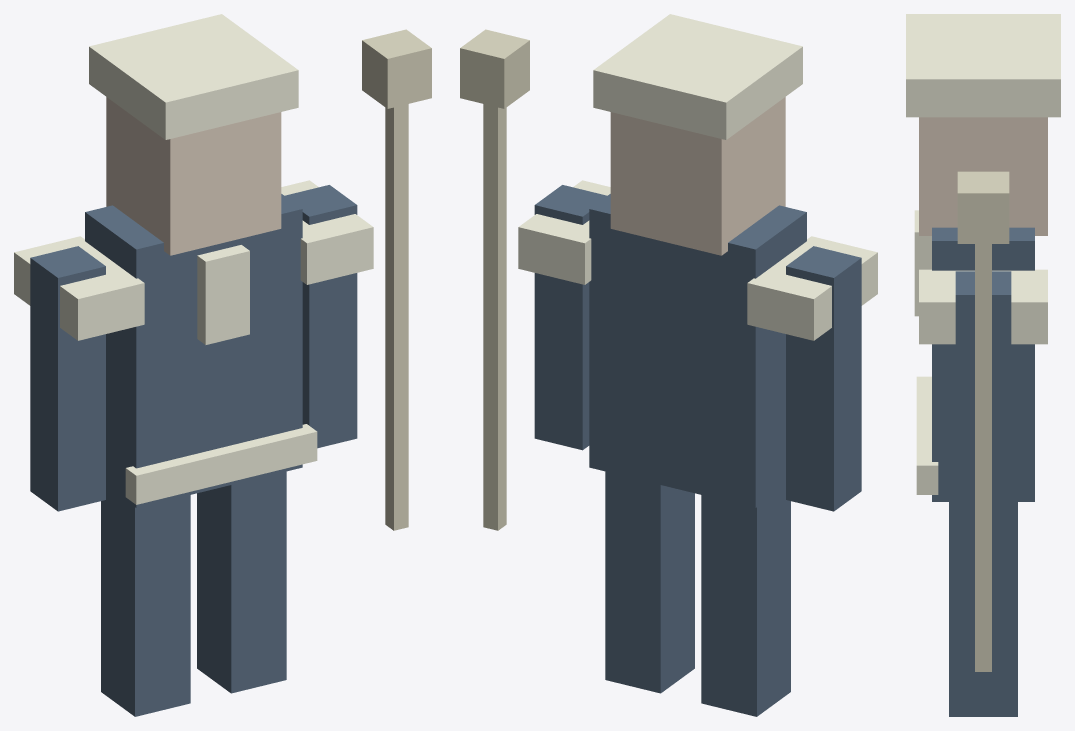
Rendered from 10_korra_wayfare_courier_at_missile.glb.
3 views of the same model, side by side, from view 1: azimuth 30°, elevation 25°; view 2: azimuth 150°, elevation 25°; view 3: azimuth 270°, elevation 25° (orthographic).
Visible parts, largest first — view 1: Korra Wayfare, Courier at Missile; view 2: Korra Wayfare, Courier at Missile; view 3: Korra Wayfare, Courier at Missile.
Part boxes in pixels (x1,y1,x2,y2): Korra Wayfare, Courier at Missile: (14,14,431,716); Korra Wayfare, Courier at Missile: (460,14,877,716); Korra Wayfare, Courier at Missile: (906,14,1060,716).
Bounding box in the file's own units: 0.959 × 1.53 × 0.3401.
